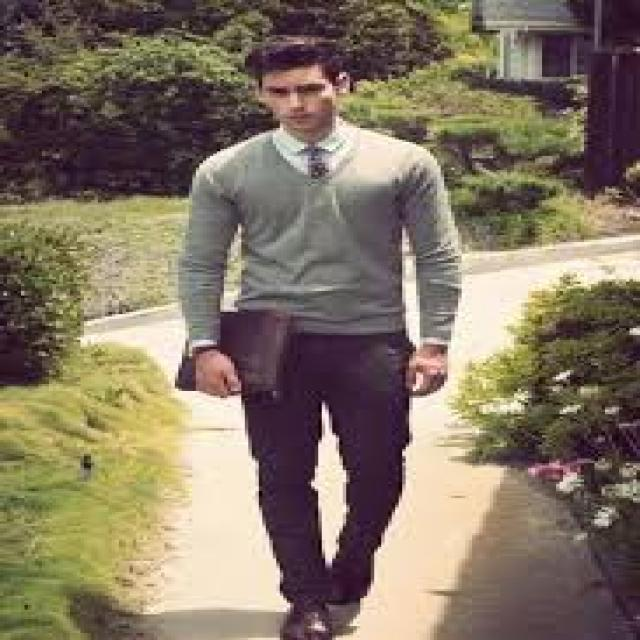adult: (150, 26, 500, 626)
